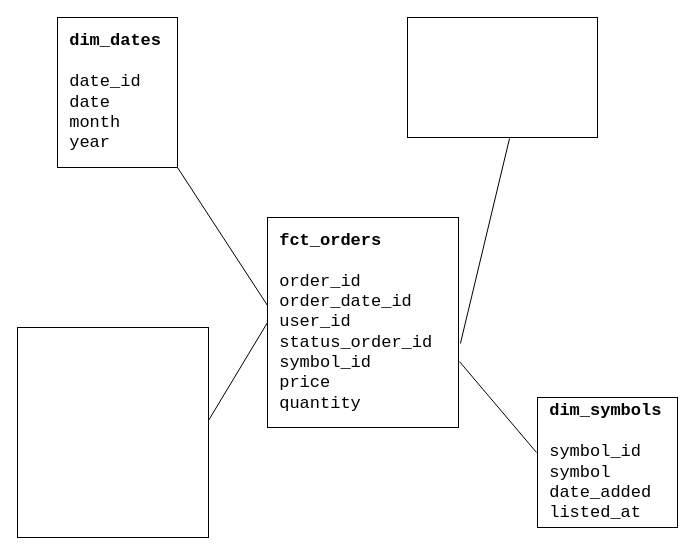
Some shapes in this 695 by 555 pixel diagram are drawn without their labels. Each missing label, with the centre of its shape:
dim_status_orders status_order_id buy_or_sell order_status: (x=502, y=77)
dim_users user_id first_name last_name email city state date_joined: (x=112, y=432)
